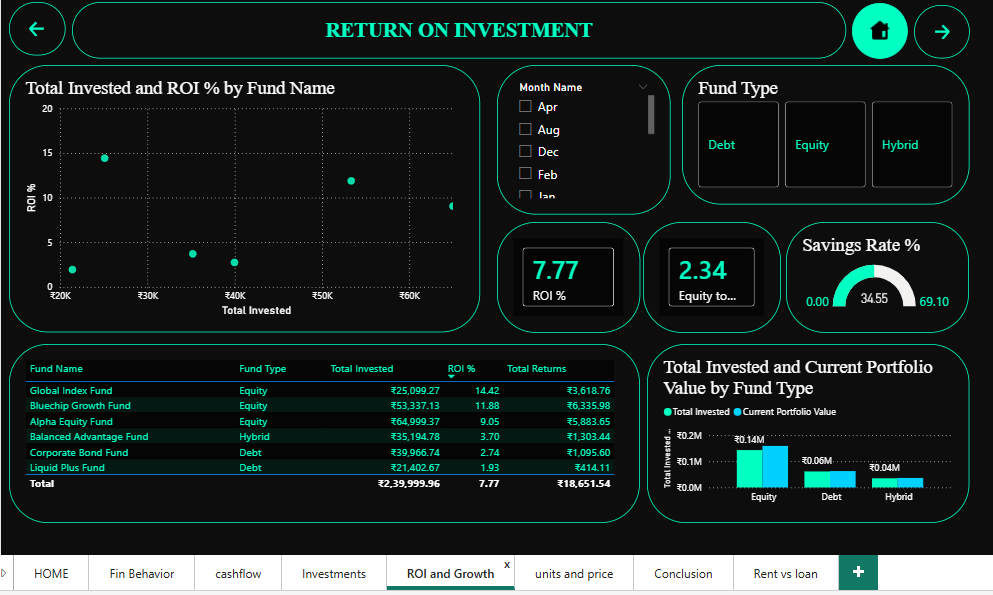

What the dashboard file says about the page in this screenshot:
{"tool":"powerbi","page":{"name":"ROI and Growth","canvas":[1280,720],"ordinal":4},"visuals":[{"type":"scatterChart","fields":{"X":["_Measures.Total Invested"],"Y":["BankStatement.ROI %"],"Category":["Dim_Fund.Fund Name"]},"box":[10.7,87.5,607.9,345.3],"z":0},{"type":"tableEx","fields":{"Values":["Dim_Fund.Fund Name","Dim_Fund.Fund Type","_Measures.Total Invested","BankStatement.ROI %","_Measures.Total Returns"]},"box":[10.7,447.4,814.1,230.5],"z":1000},{"type":"gauge","fields":{"Y":["_Measures.Savings Rate %"]},"box":[1013.5,289.8,236.4,143],"z":2000},{"type":"slicer","fields":{"Values":["DateTable.Month Name"]},"box":[640,87.5,223.7,192.6],"z":3000},{"type":"clusteredColumnChart","fields":{"Y":["_Measures2.Total Invested","_Measures2.Current Portfolio Value"],"Category":["Dim_Fund.Fund Type"]},"box":[833.8,447.1,416,231.1],"z":4000},{"type":"cardVisual","fields":{"Data":["_Measures2.ROI %"]},"box":[640,289.8,184.8,143],"z":5000},{"type":"advancedSlicerVisual","fields":{"Values":["Dim_Fund.Fund Type"]},"box":[879.3,87.5,370.6,179.9],"z":6000},{"type":"textbox","box":[91.6,6.2,999.1,72.9],"z":7000},{"type":"actionButton","box":[1097.8,8,72,72],"z":8000},{"type":"actionButton","box":[1177.8,9.8,72,69.3],"z":9000},{"type":"actionButton","box":[10.7,6.2,72.9,69.3],"z":10000},{"type":"cardVisual","fields":{"Data":["_Measures.Equity to Debt Ratio"]},"box":[828.7,289.8,178,143],"z":11000}]}

Visuals, with their boxes on the page's 1280x720 design canvas (x1, y1, x2, y2). These are canvas units, not pixel positions in the 993x595 screenshot, which may show the page scaled, cropped or inside an application window:
scatterChart - _Measures.Total Invested x BankStatement.ROI %: region(11, 88, 619, 433)
tableEx - Dim_Fund.Fund Name x Dim_Fund.Fund Type: region(11, 447, 825, 678)
gauge - _Measures.Savings Rate %: region(1014, 290, 1250, 433)
slicer - DateTable.Month Name: region(640, 88, 864, 280)
clusteredColumnChart - _Measures2.Total Invested x _Measures2.Current Portfolio Value: region(834, 447, 1250, 678)
cardVisual - _Measures2.ROI %: region(640, 290, 825, 433)
advancedSlicerVisual - Dim_Fund.Fund Type: region(879, 88, 1250, 267)
textbox: region(92, 6, 1091, 79)
actionButton: region(1098, 8, 1170, 80)
actionButton: region(1178, 10, 1250, 79)
actionButton: region(11, 6, 84, 76)
cardVisual - _Measures.Equity to Debt Ratio: region(829, 290, 1007, 433)
